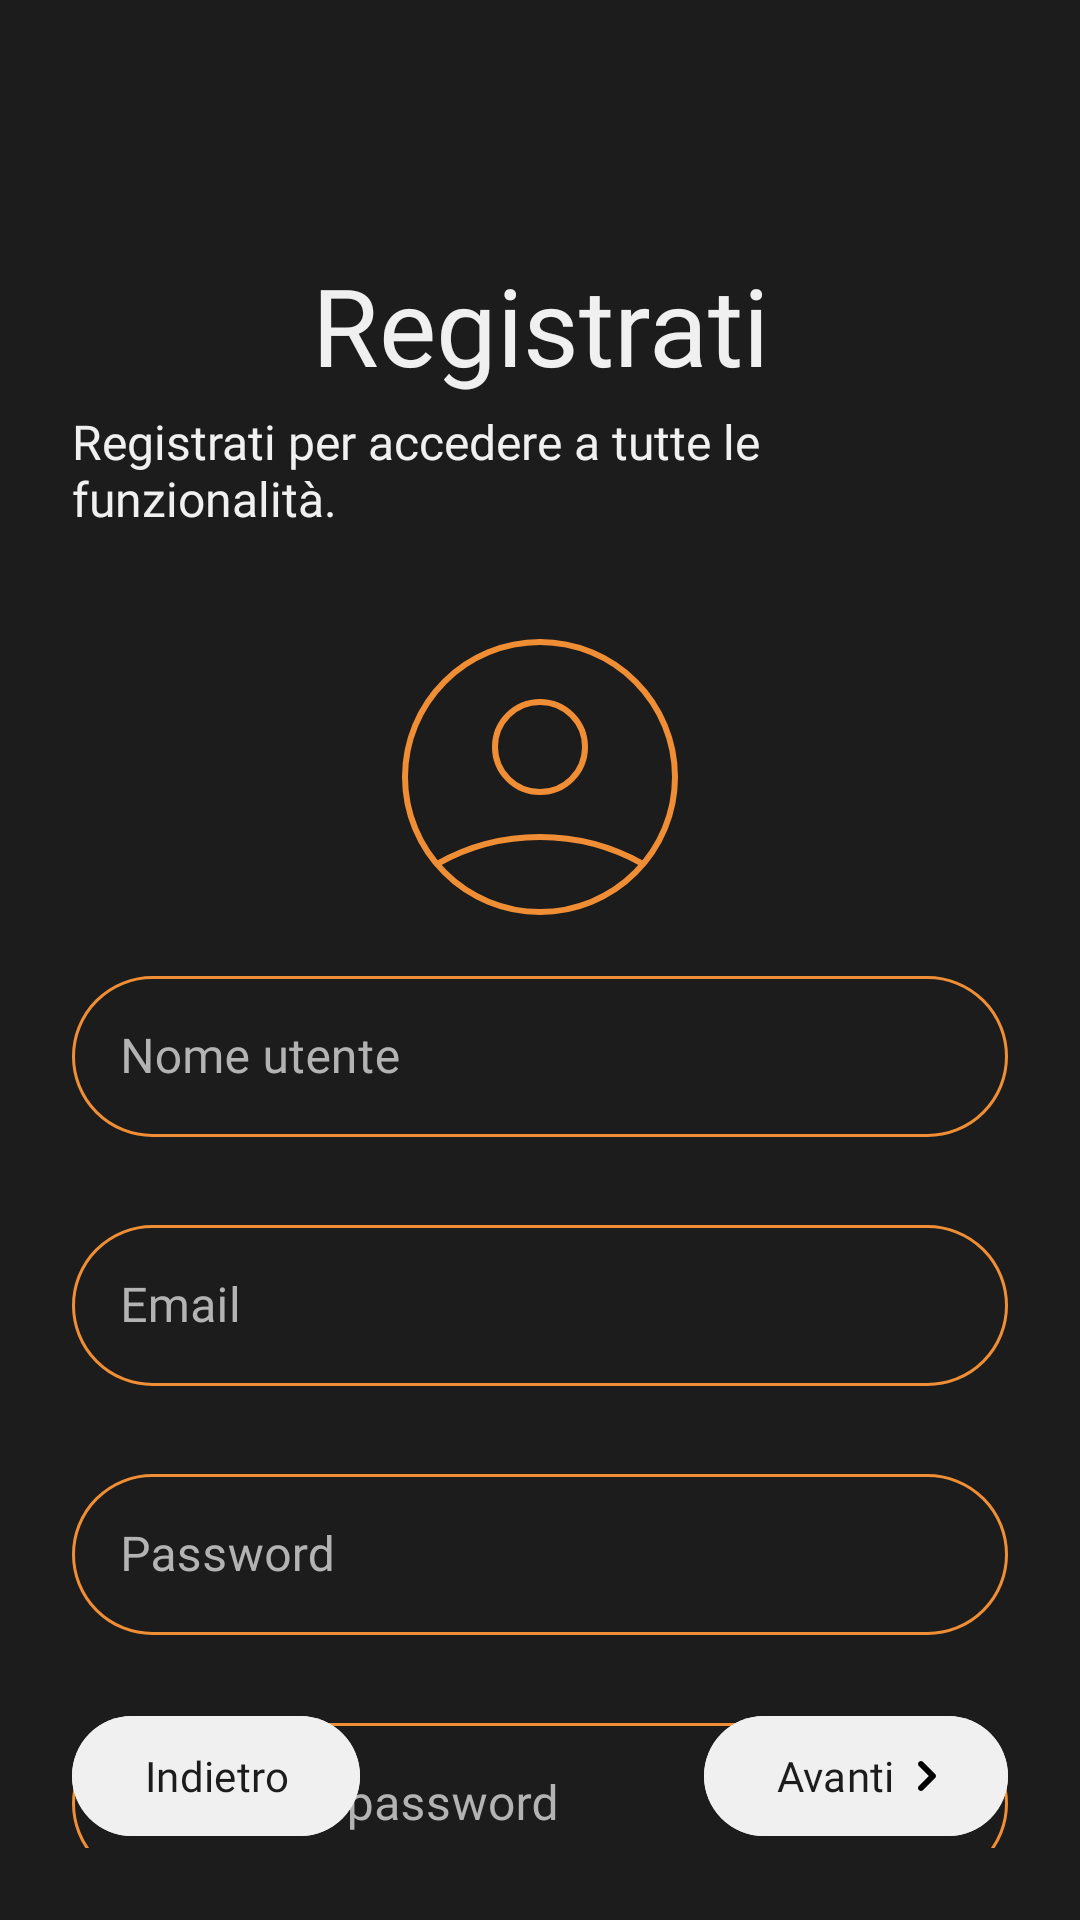

Point at icon controls on the screen. Image size 1080×1920, points as (x,y).
Icona utente: (540,777)
